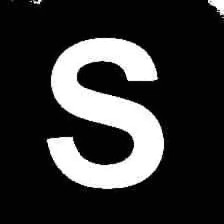LTR_S: (41, 30, 166, 191)
